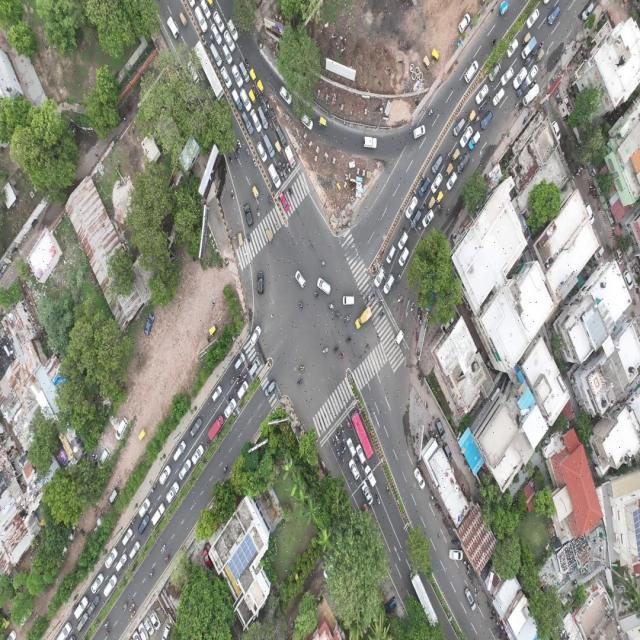3W: (179, 12, 188, 28), (265, 229, 275, 243), (466, 109, 476, 123), (432, 48, 441, 63), (256, 78, 265, 93), (318, 114, 328, 127), (237, 230, 244, 248), (252, 185, 261, 199), (427, 194, 436, 208), (435, 190, 444, 203), (208, 322, 217, 334), (138, 427, 146, 440), (423, 54, 430, 68), (452, 147, 460, 159), (446, 162, 454, 173), (249, 68, 256, 80), (538, 51, 544, 63)
Bus: (195, 40, 223, 99), (351, 411, 373, 462)
Cars: (150, 500, 166, 526), (72, 596, 89, 618), (523, 82, 539, 105), (102, 575, 118, 598), (404, 194, 418, 219), (213, 5, 227, 30), (464, 59, 479, 82), (194, 5, 207, 31), (462, 586, 476, 610), (268, 163, 281, 188), (74, 612, 90, 632), (459, 126, 473, 148), (475, 82, 489, 104), (443, 564, 455, 589), (367, 499, 380, 522), (114, 416, 127, 439), (241, 88, 252, 115), (318, 277, 332, 298), (362, 134, 378, 152), (92, 572, 105, 594), (159, 462, 172, 484), (492, 88, 505, 110), (264, 379, 277, 401), (526, 8, 540, 28), (88, 594, 102, 614), (165, 482, 179, 502), (263, 133, 275, 156), (418, 175, 430, 198), (413, 466, 425, 489), (364, 464, 376, 487), (241, 111, 253, 134), (250, 108, 262, 131), (167, 15, 178, 40), (458, 12, 471, 33), (178, 458, 191, 479), (136, 498, 150, 517), (374, 264, 386, 286), (232, 64, 244, 86), (506, 39, 519, 59), (190, 444, 203, 464), (469, 130, 482, 150), (224, 397, 237, 417), (480, 112, 493, 132), (105, 548, 118, 568), (173, 440, 186, 460), (257, 104, 267, 130), (414, 121, 426, 142), (385, 243, 397, 264), (348, 458, 360, 479), (116, 553, 128, 574), (548, 5, 560, 26), (514, 66, 526, 87), (220, 63, 230, 88), (233, 351, 246, 370), (231, 87, 242, 109), (398, 228, 409, 250), (250, 324, 261, 346), (500, 66, 512, 86), (256, 272, 266, 296), (398, 247, 410, 267), (275, 124, 287, 144), (138, 514, 150, 534), (224, 29, 236, 49), (430, 173, 442, 193), (452, 117, 466, 134), (431, 154, 444, 172), (121, 528, 134, 546), (411, 208, 422, 229), (239, 59, 249, 82), (294, 269, 306, 288), (257, 140, 267, 162), (222, 44, 233, 64), (107, 485, 118, 505), (383, 274, 394, 294), (527, 64, 538, 84), (248, 358, 260, 376), (190, 419, 202, 437), (236, 380, 248, 398), (212, 382, 224, 400), (244, 204, 253, 228), (130, 539, 141, 558), (423, 210, 434, 229), (278, 191, 288, 211), (460, 152, 470, 172), (446, 172, 457, 190), (449, 547, 462, 562), (394, 328, 404, 347), (356, 445, 366, 463), (347, 436, 355, 456), (342, 294, 355, 306), (200, 0, 210, 15), (212, 24, 222, 38)
LCV: (355, 306, 373, 329), (521, 36, 537, 60), (285, 144, 296, 167), (270, 107, 277, 121)
M2W: (163, 552, 172, 564), (228, 188, 237, 200), (408, 480, 416, 493), (346, 334, 354, 345), (228, 152, 234, 166), (437, 203, 444, 215), (297, 298, 304, 310), (375, 492, 381, 505), (288, 185, 294, 198), (377, 311, 386, 319), (477, 104, 485, 113), (409, 302, 415, 314), (314, 290, 320, 302), (322, 347, 330, 356), (210, 298, 216, 310), (237, 138, 243, 149), (268, 195, 274, 206), (445, 207, 452, 216), (298, 364, 305, 373), (297, 378, 304, 387), (398, 293, 404, 303), (359, 288, 365, 298), (396, 274, 401, 286), (244, 146, 250, 156), (378, 294, 384, 304), (338, 352, 345, 360), (345, 417, 350, 428), (286, 162, 291, 173), (123, 601, 128, 612), (232, 388, 238, 397), (372, 291, 378, 300), (246, 232, 252, 241), (252, 158, 258, 167), (222, 465, 228, 474), (150, 484, 156, 493), (256, 347, 262, 356), (335, 425, 340, 435), (342, 459, 347, 469), (246, 359, 251, 369), (256, 209, 261, 219), (539, 39, 544, 49), (422, 200, 427, 210), (160, 545, 167, 552), (363, 296, 369, 304), (131, 517, 137, 525), (428, 108, 434, 116), (341, 443, 346, 452), (446, 151, 451, 160), (344, 313, 349, 322), (104, 619, 109, 628), (106, 627, 111, 636), (333, 311, 340, 317), (328, 303, 334, 310), (149, 569, 155, 576), (242, 371, 247, 379), (280, 172, 284, 182), (231, 376, 235, 386), (129, 602, 134, 610), (131, 610, 136, 618), (340, 423, 344, 432), (331, 436, 335, 445), (335, 447, 339, 456), (276, 220, 280, 229), (334, 436, 339, 443), (333, 346, 338, 353), (340, 450, 344, 458), (284, 170, 288, 178), (282, 162, 286, 170), (340, 435, 344, 442)
Truck: (207, 414, 223, 441)
